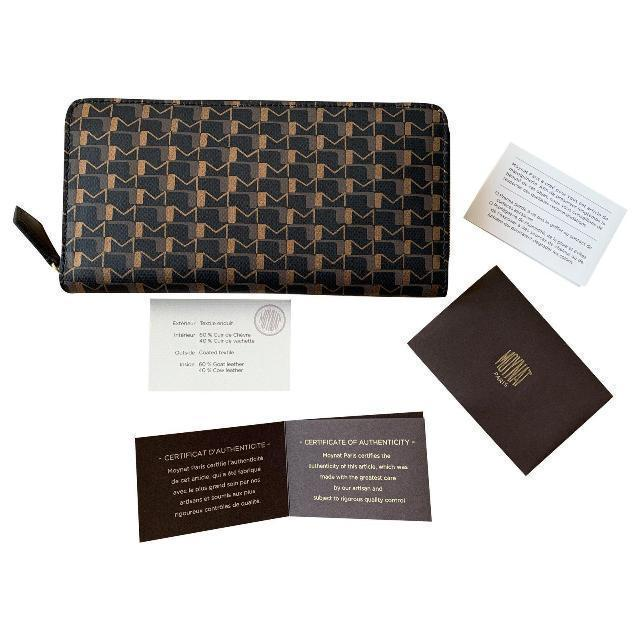wallet: (53, 92, 451, 298)
